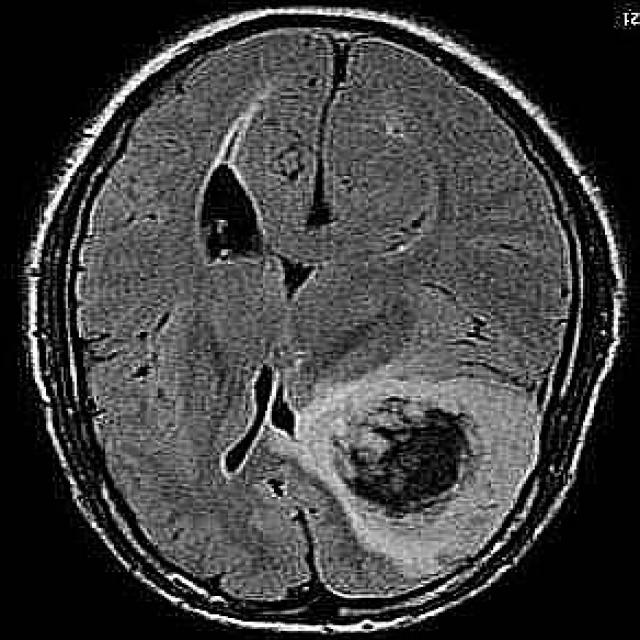Tumor-Cell: (337, 390, 481, 519)
